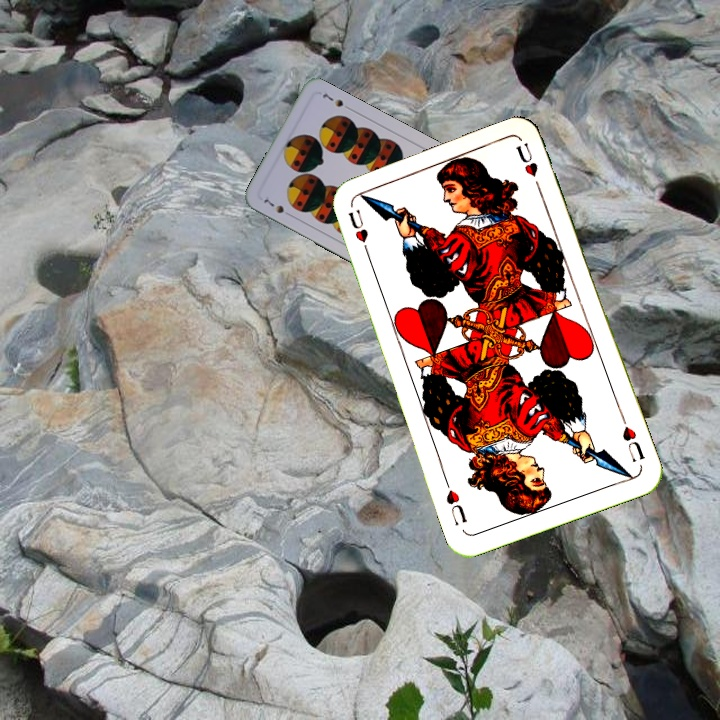HU: (617, 412, 647, 465), (344, 205, 371, 245)
S7: (260, 195, 295, 219)
